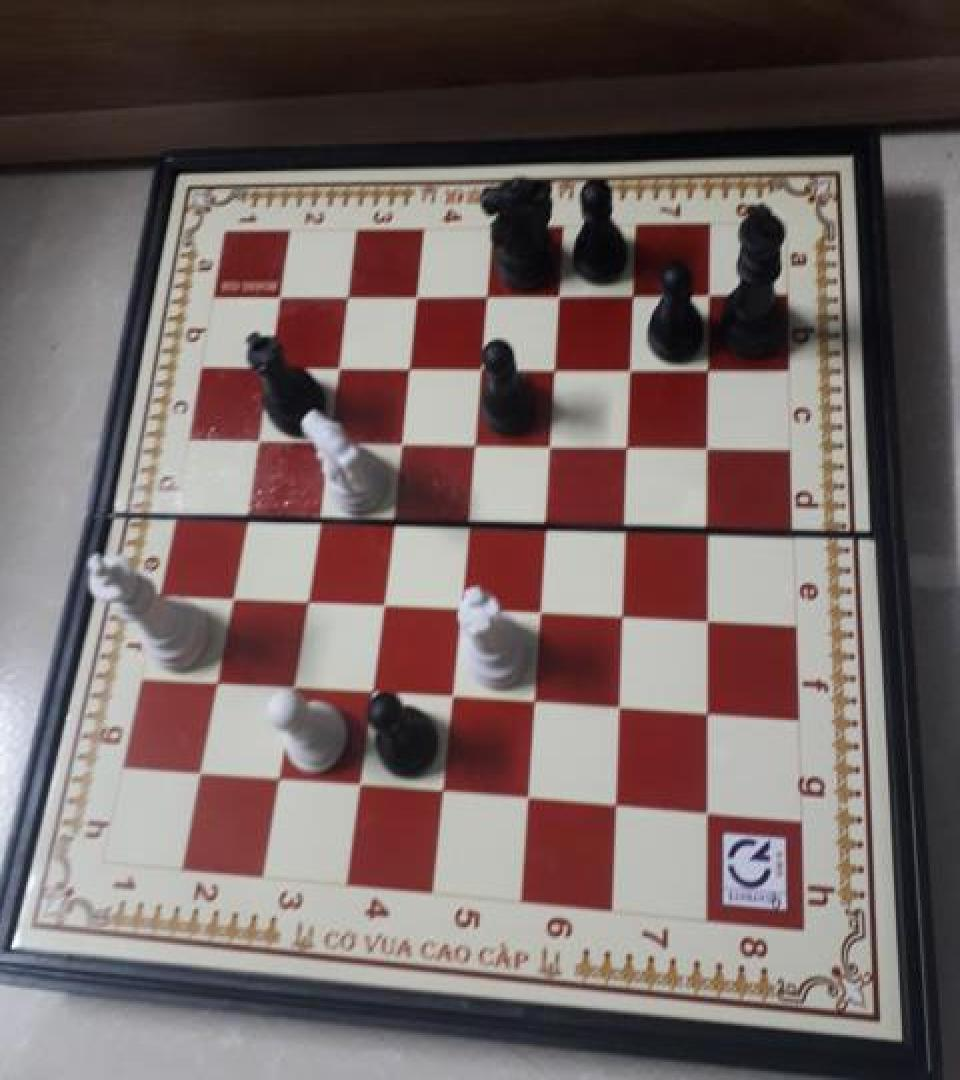xcorner: (696, 279, 726, 313), (620, 280, 650, 314), (546, 280, 576, 314), (473, 281, 503, 315), (402, 281, 432, 315), (333, 282, 363, 316), (265, 282, 295, 316), (696, 354, 726, 388), (617, 353, 647, 387), (541, 353, 571, 387), (466, 353, 496, 387), (394, 352, 424, 386), (323, 352, 353, 386), (254, 352, 284, 386), (695, 433, 725, 467), (614, 431, 644, 465), (536, 430, 566, 464), (459, 428, 489, 462), (385, 428, 415, 462), (312, 426, 342, 460), (241, 424, 271, 458), (694, 516, 724, 550), (611, 513, 641, 547), (530, 510, 560, 544), (452, 508, 482, 542), (375, 506, 405, 540), (301, 504, 331, 538), (228, 502, 258, 536), (693, 604, 723, 638), (525, 596, 555, 630), (444, 593, 474, 627), (366, 590, 396, 624), (289, 586, 319, 620), (215, 582, 245, 616), (692, 698, 722, 732), (604, 693, 634, 727), (519, 687, 549, 721), (436, 683, 466, 717), (355, 677, 385, 711), (277, 672, 307, 706), (200, 668, 230, 702), (691, 798, 721, 832), (600, 791, 630, 825), (512, 784, 542, 818), (427, 777, 457, 811), (344, 770, 374, 804), (263, 765, 293, 799), (185, 758, 215, 792), (608, 601, 638, 634)
